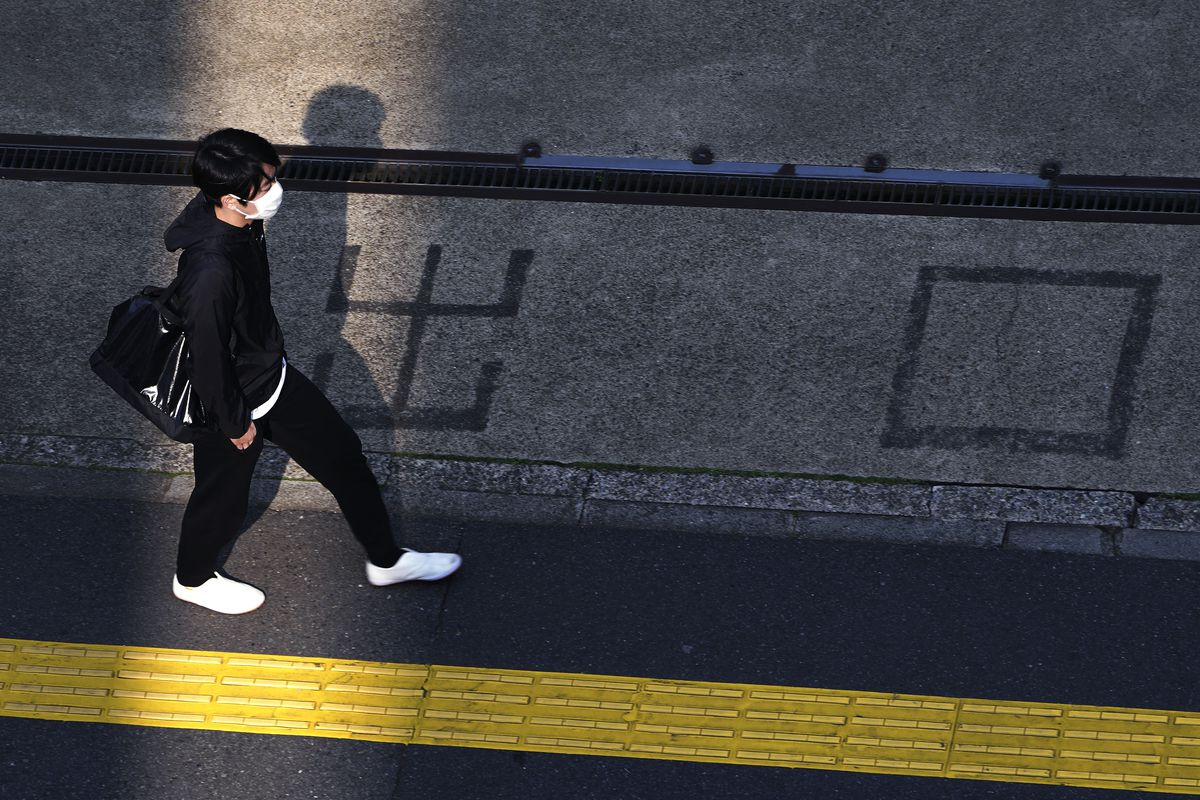with_mask: (195, 136, 296, 239)
